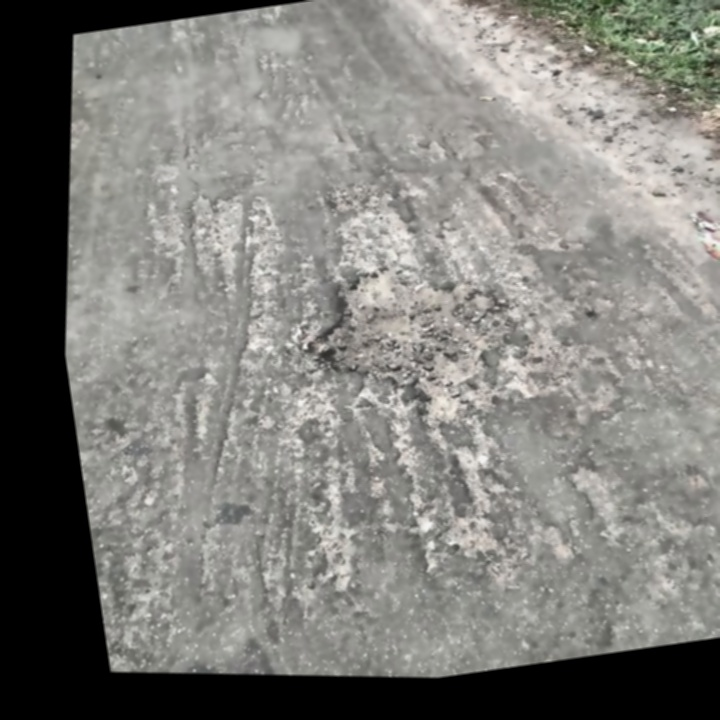pothole: (294, 235, 535, 419)
